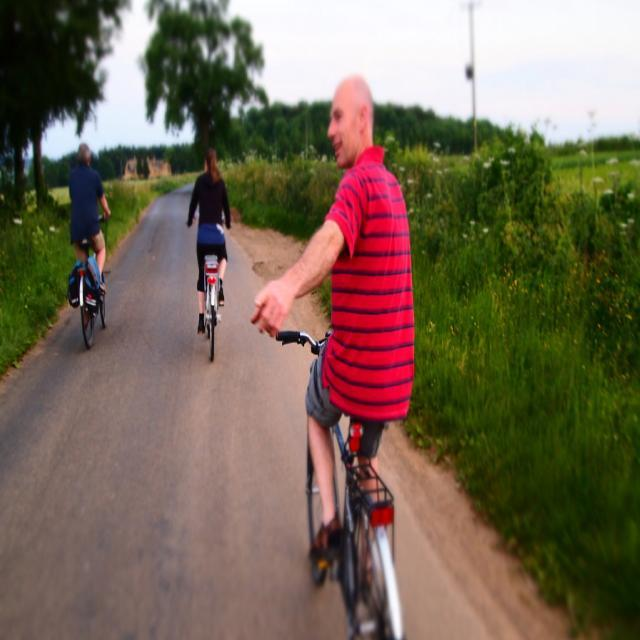car: (289, 344, 417, 630), (190, 208, 230, 362), (68, 207, 111, 350)
